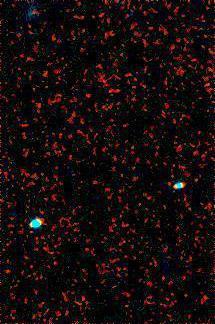star: (176, 165, 206, 195)
